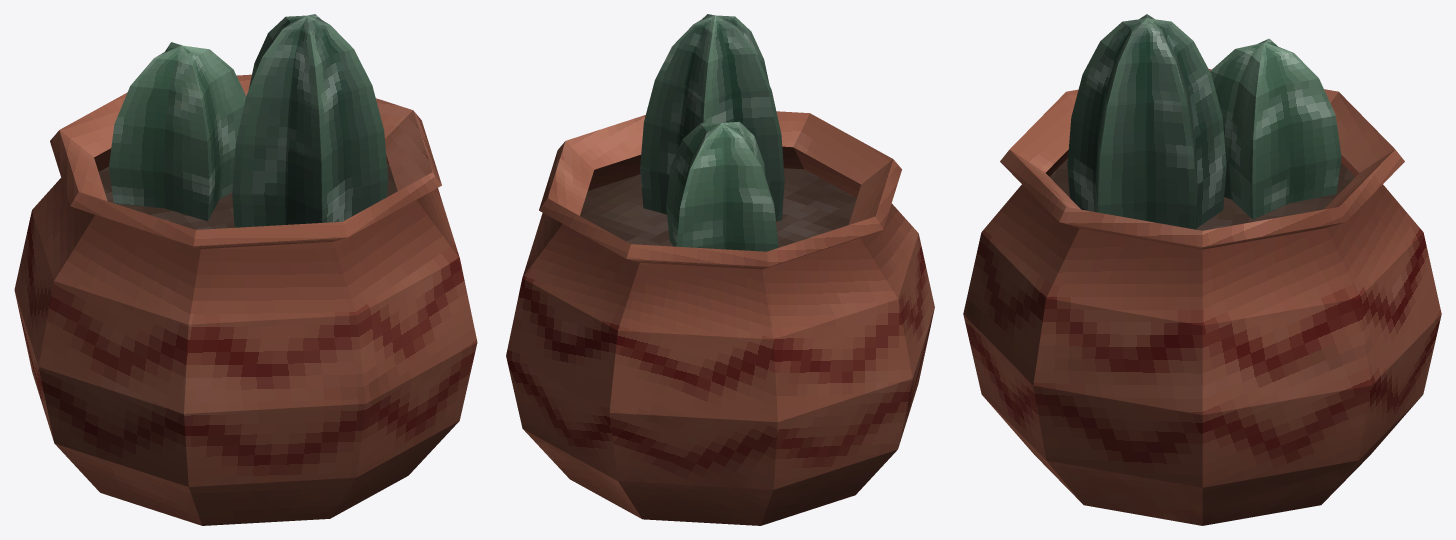
The model's file is potted_plant_c0175dba4790.glb.
3 views of the same model, side by side, from view 1: azimuth 30°, elevation 25°; view 2: azimuth 150°, elevation 25°; view 3: azimuth 270°, elevation 25° (orthographic). The views are drawn at different scales.
Parts seen in each view (by area): view 1: CactusPot; view 2: CactusPot; view 3: CactusPot.
Part boxes in pixels (left/top/right/bottom): CactusPot: left=14, top=14, right=477, bottom=525; CactusPot: left=506, top=14, right=934, bottom=525; CactusPot: left=963, top=14, right=1441, bottom=525.
Size of the model in its own units: 0.0215 by 0.0243 by 0.0215.
1 material, 1 textured.
